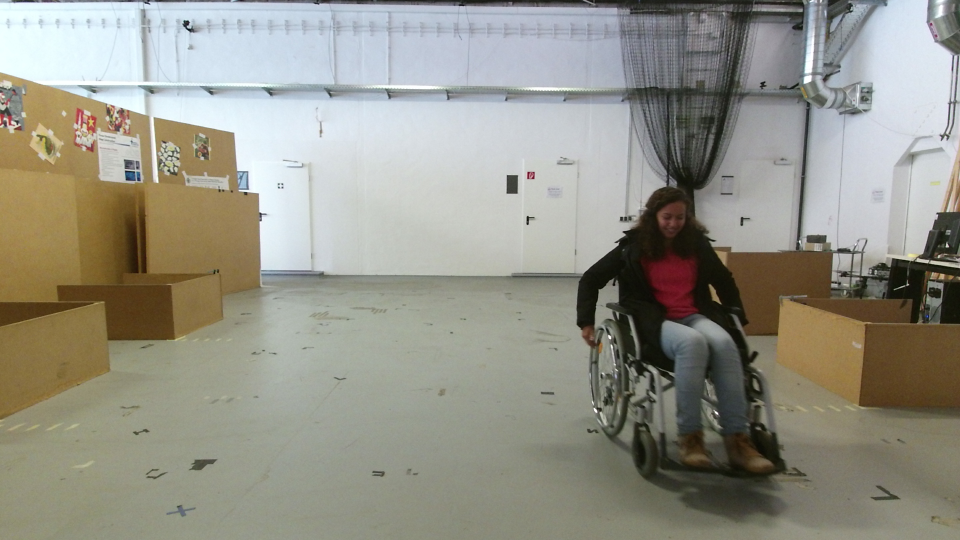wheelchair: (582, 181, 792, 486)
